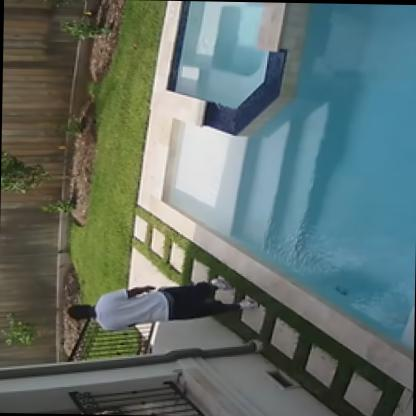Human Body: (64, 274, 260, 338)
